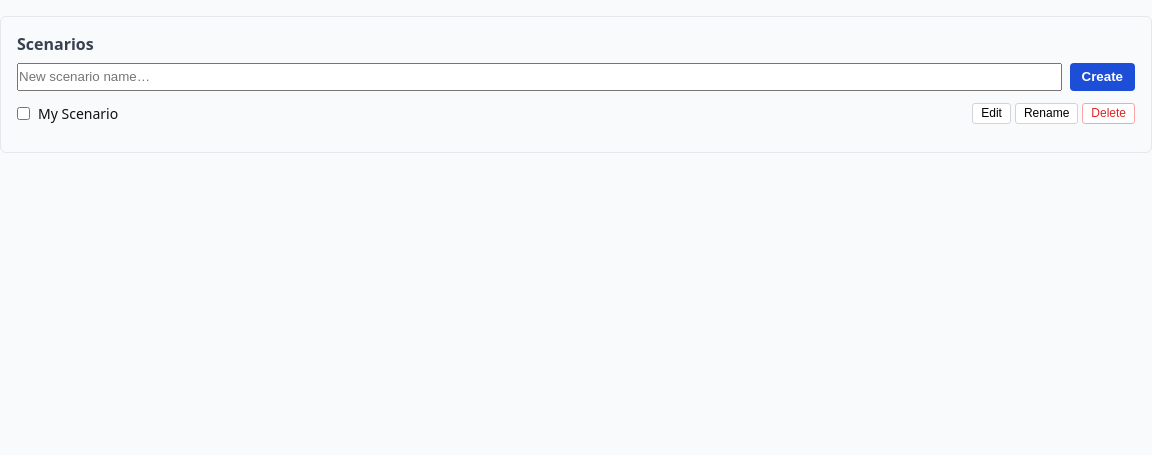
Test case: ScenarioManager — editor with schedule overrides › renders schedule overrides table when schedules exist
Click the button "Edit" at point(992, 113), box [972,103,1011,124]
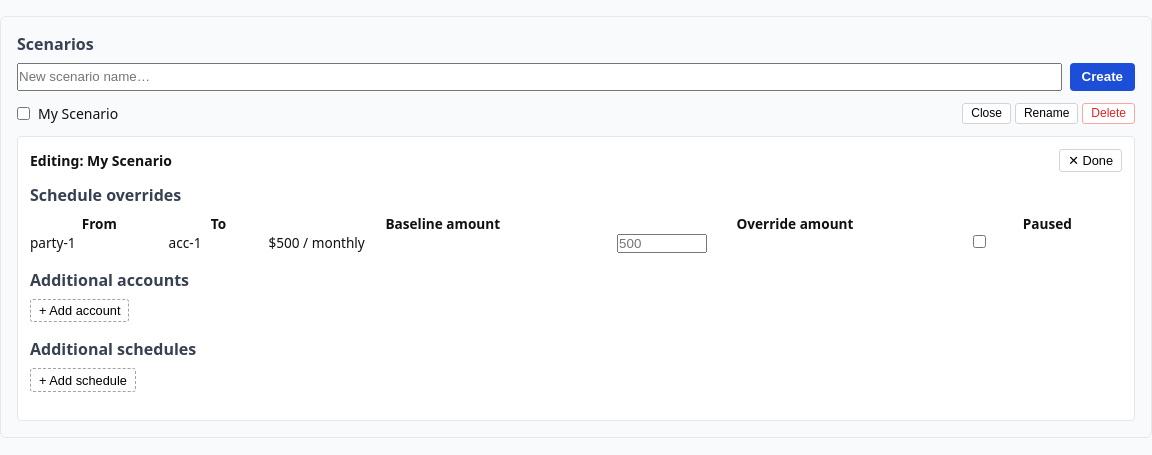
Expected: the heading "Schedule overrides" is shown, [30,184,181,206]
